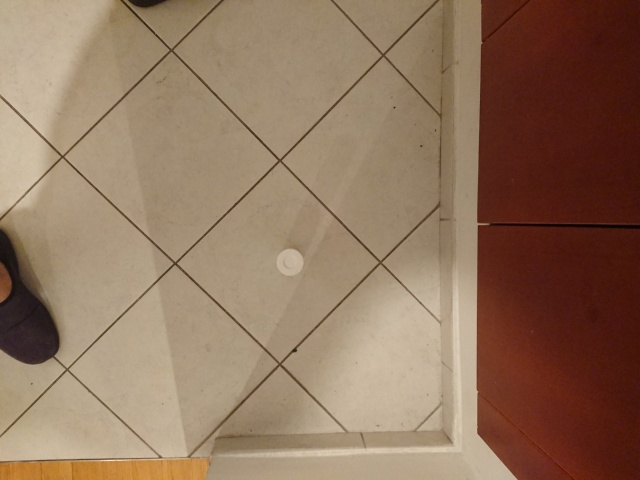Solana Pag Fine Sea Salt 250g: (273, 245, 306, 278)
